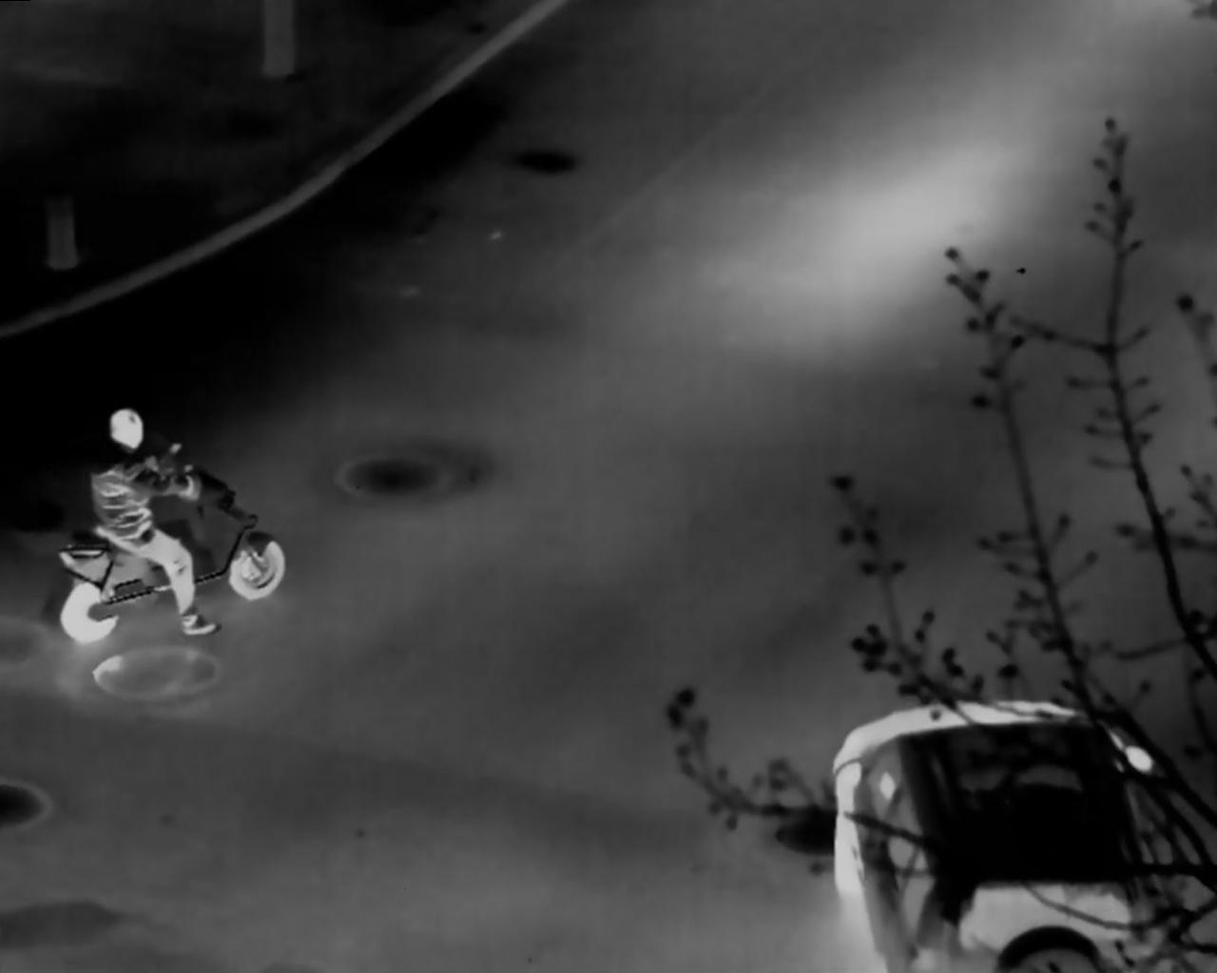person: (91, 407, 222, 639)
